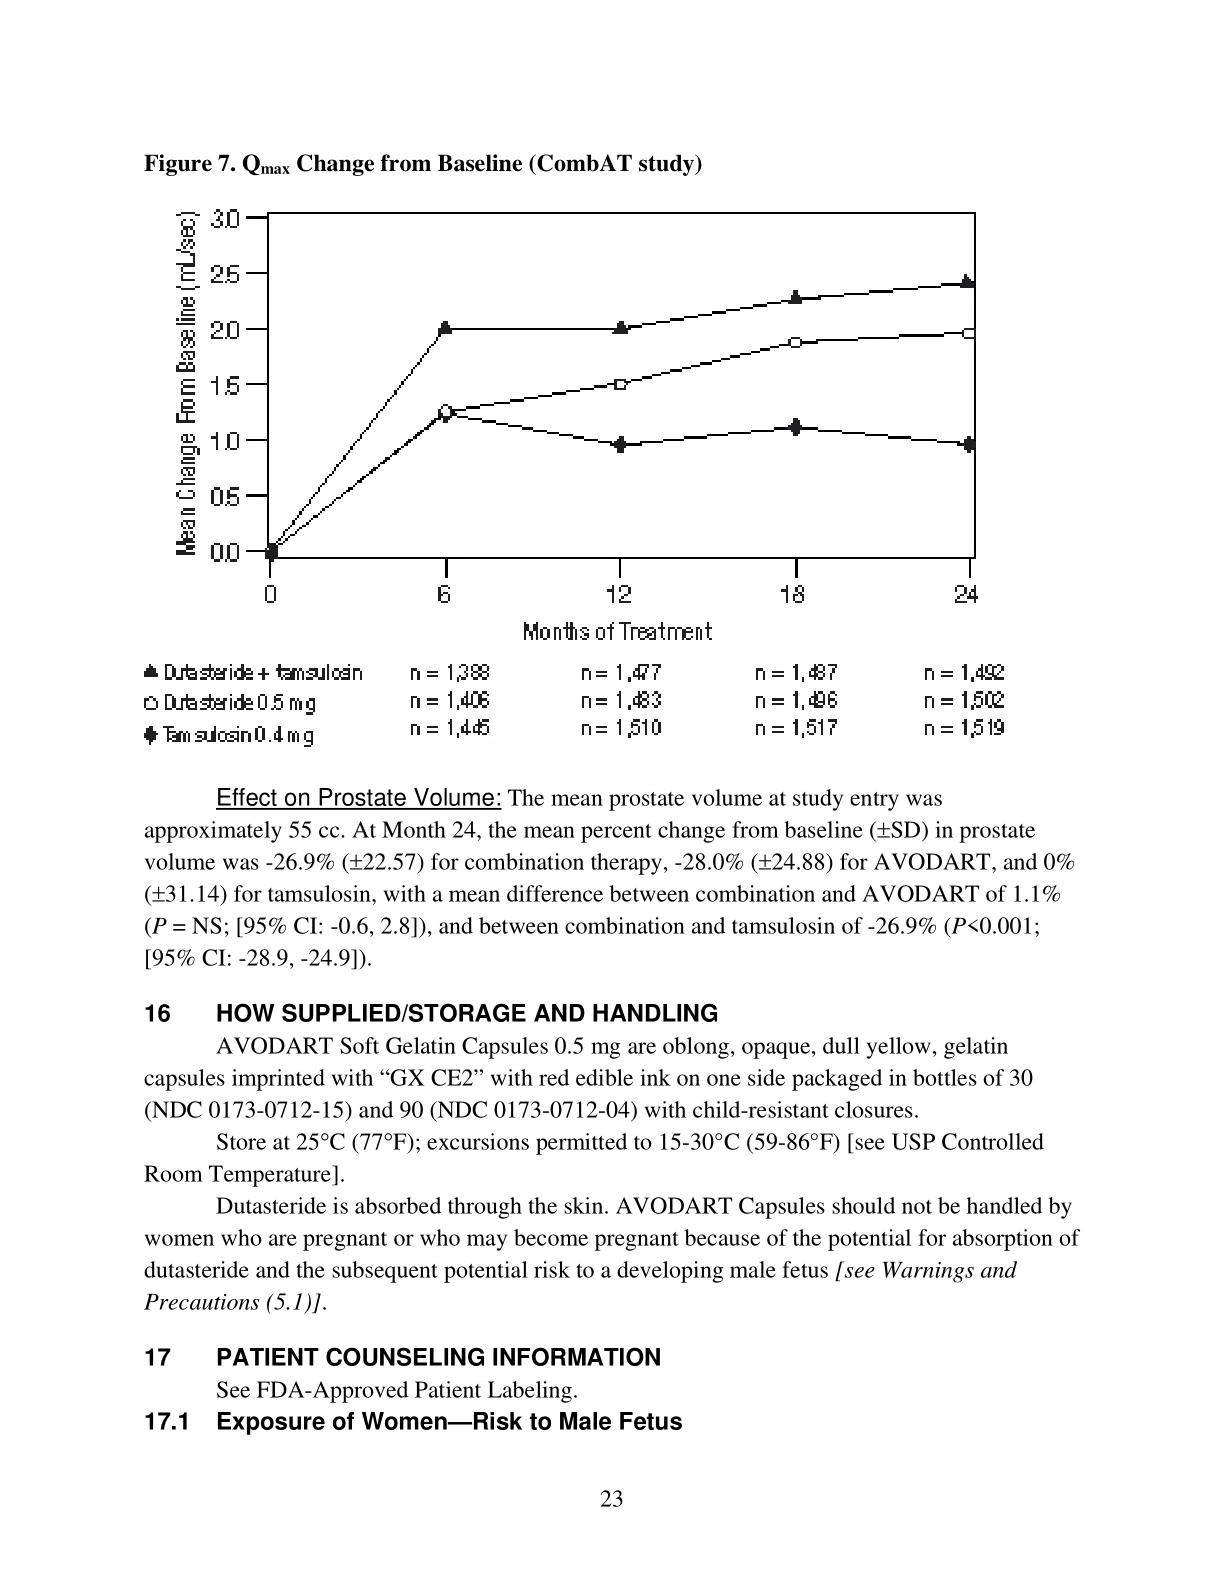nolines: (141, 660, 1011, 741)
